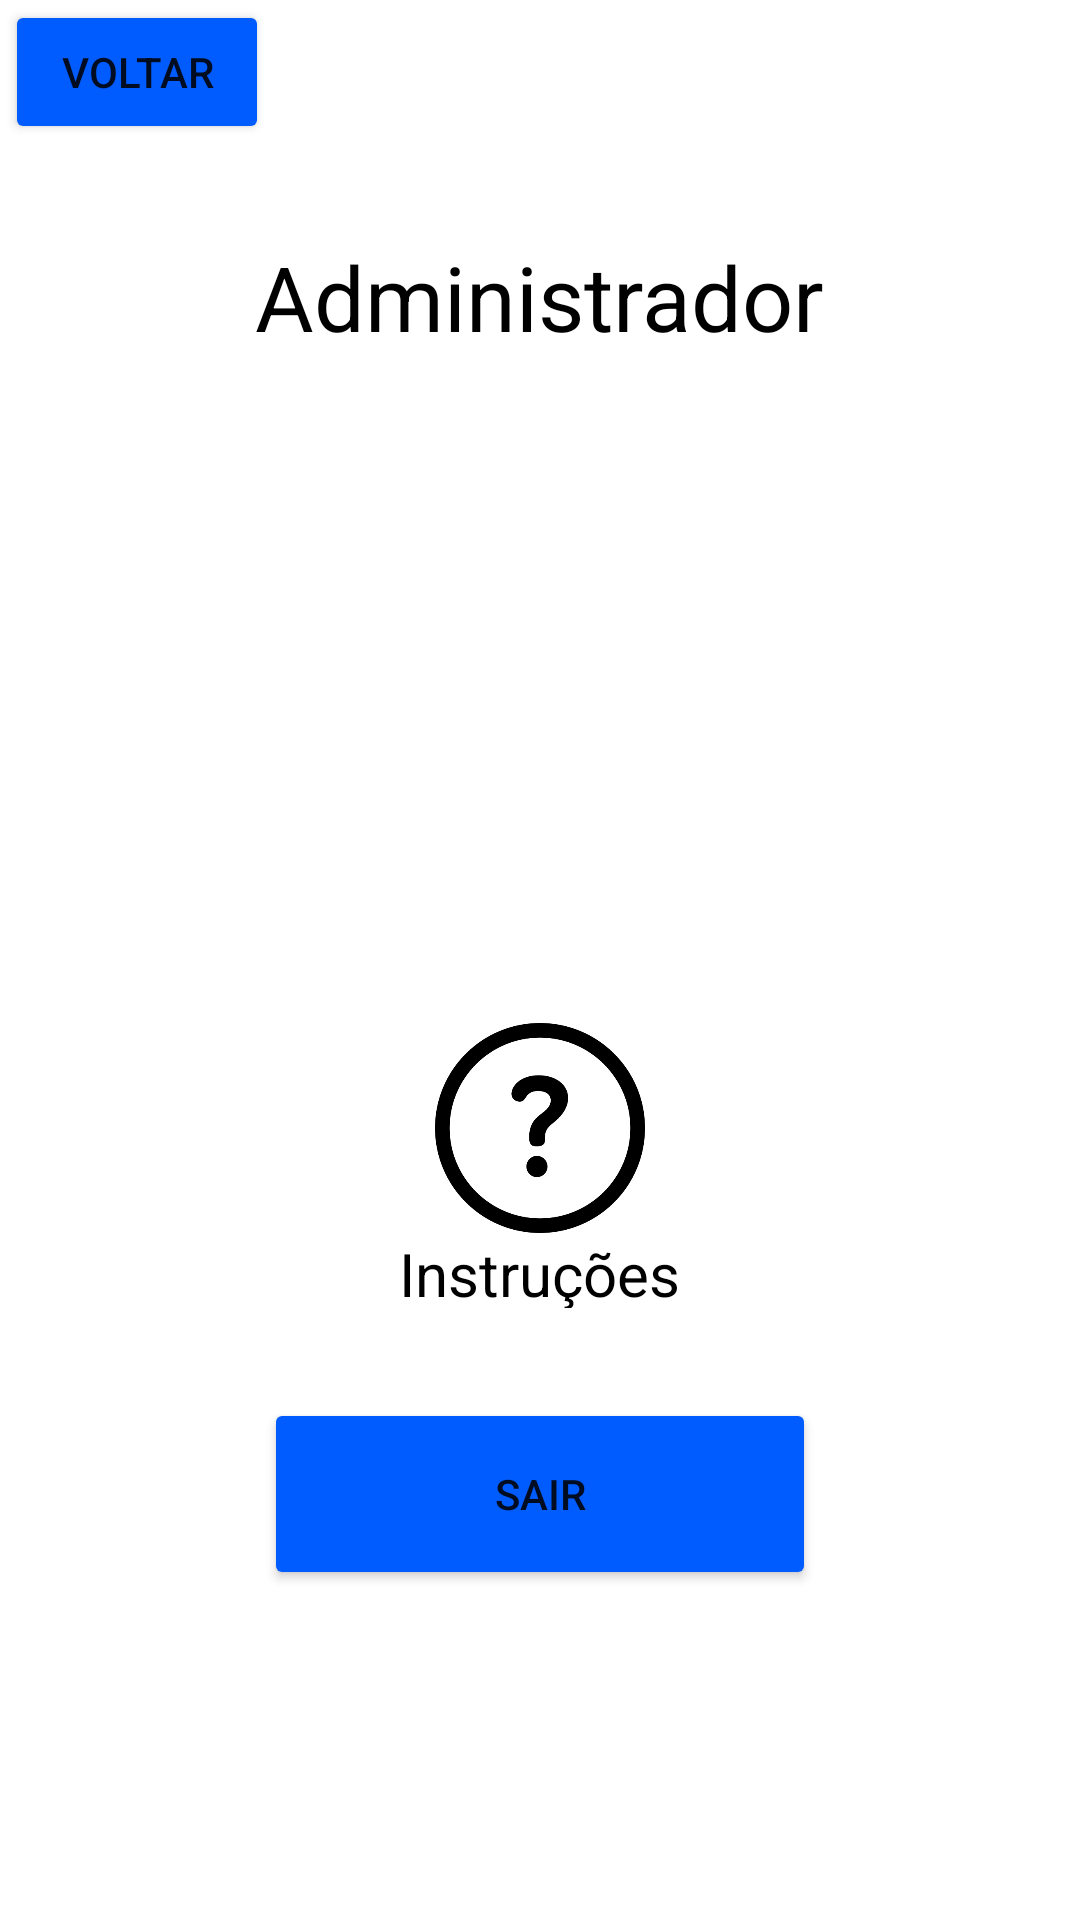

Where to tap for icons on this 1080 x 1920 app screen, as (x=x, y=y):
interrogacao: (x=540, y=1128)
